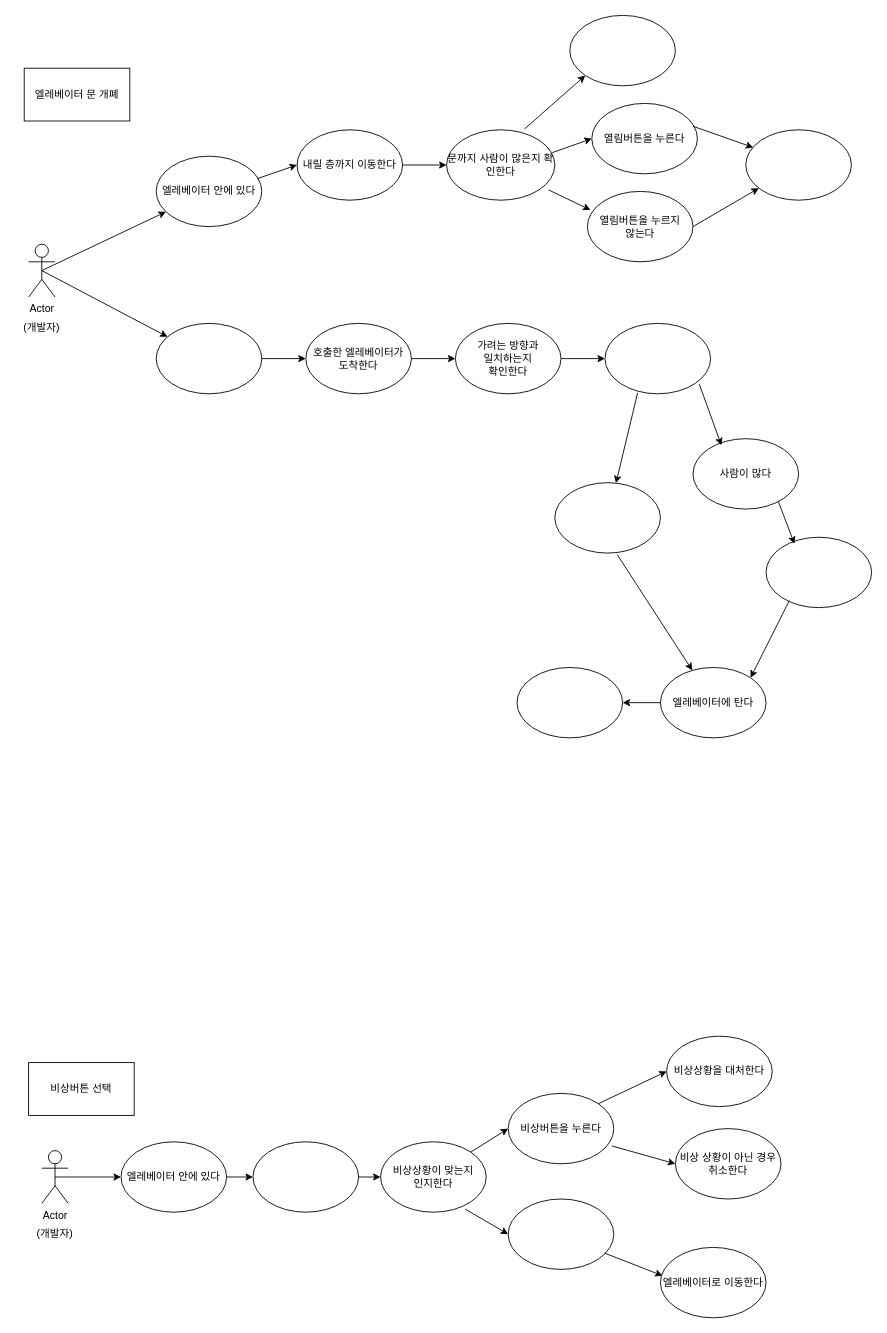
Image size: 887x1333. Some labels were removed from this diagram. Here are the shapes that lost their labels. From the top down, the centre of each, then its label:
At (622,50): "닫힘 버튼을 누른다".
At (798,164): "엘레베이터에서 내린다".
At (208,358): "엘레베이터 밖에 있다".
At (657,358): "엘레베이터 안에 사람이 많은지 확인한다".
At (607,517): "사람이 적다".
At (818,572): "이동방향 버튼을 누른다".
At (569,702): "이동한다".
At (305,1176): "비상상황이 발생한다".
At (560,1233): "비상상황이 아니면 비상버튼을 누르지 않는다".
